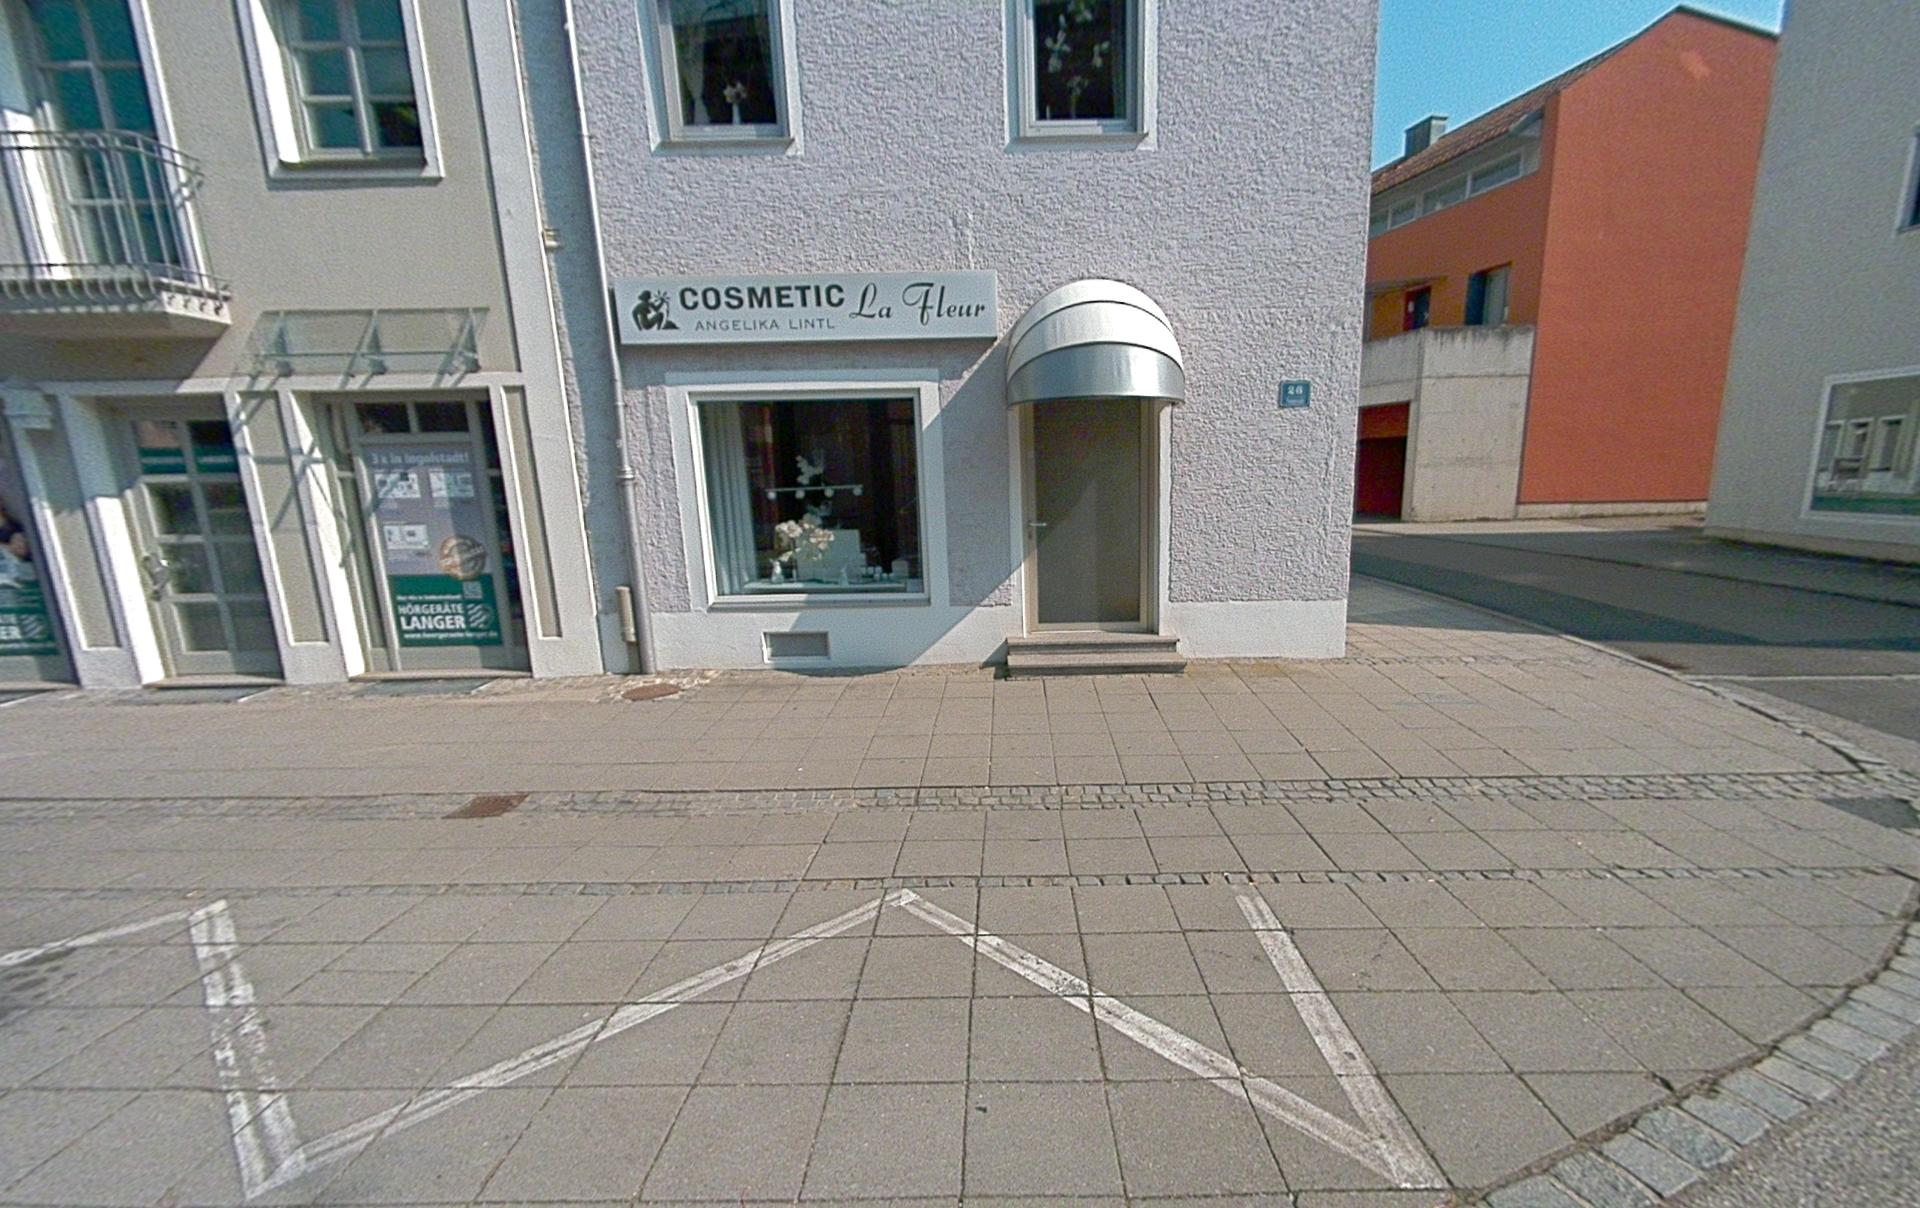traffic sign: (612, 269, 1000, 347)
